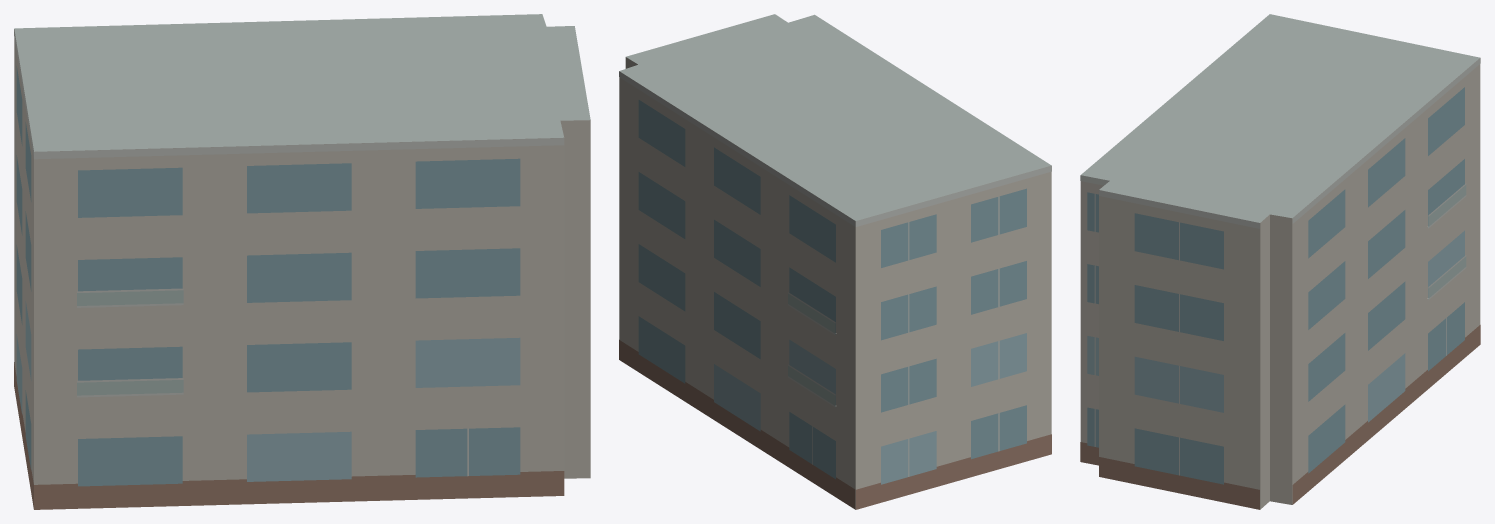
File: survey-upis-32930882.glb
The picture shows the model from 3 angles, left to right: view 1: azimuth 30°, elevation 25°; view 2: azimuth 150°, elevation 25°; view 3: azimuth 270°, elevation 25°; orthographic projection. The views are drawn at different scales.
Parts seen in each view (by area): view 1: survey-upis-32930882.tmp; view 2: survey-upis-32930882.tmp; view 3: survey-upis-32930882.tmp.
Boxes of the visible parts, x1,y1,x2,y2 form: survey-upis-32930882.tmp: [14, 14, 590, 509]; survey-upis-32930882.tmp: [619, 14, 1051, 509]; survey-upis-32930882.tmp: [1080, 14, 1480, 509].
Bounding box in the file's own units: 18.29 × 11.7 × 14.79.
